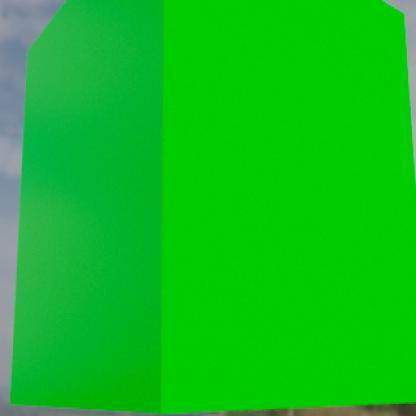green_cube: (9, 0, 415, 415)
